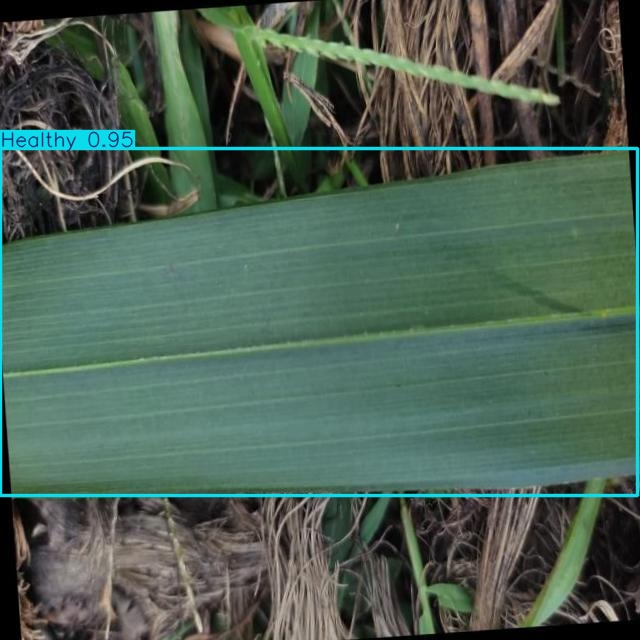Healthy: (1, 148, 637, 496)
